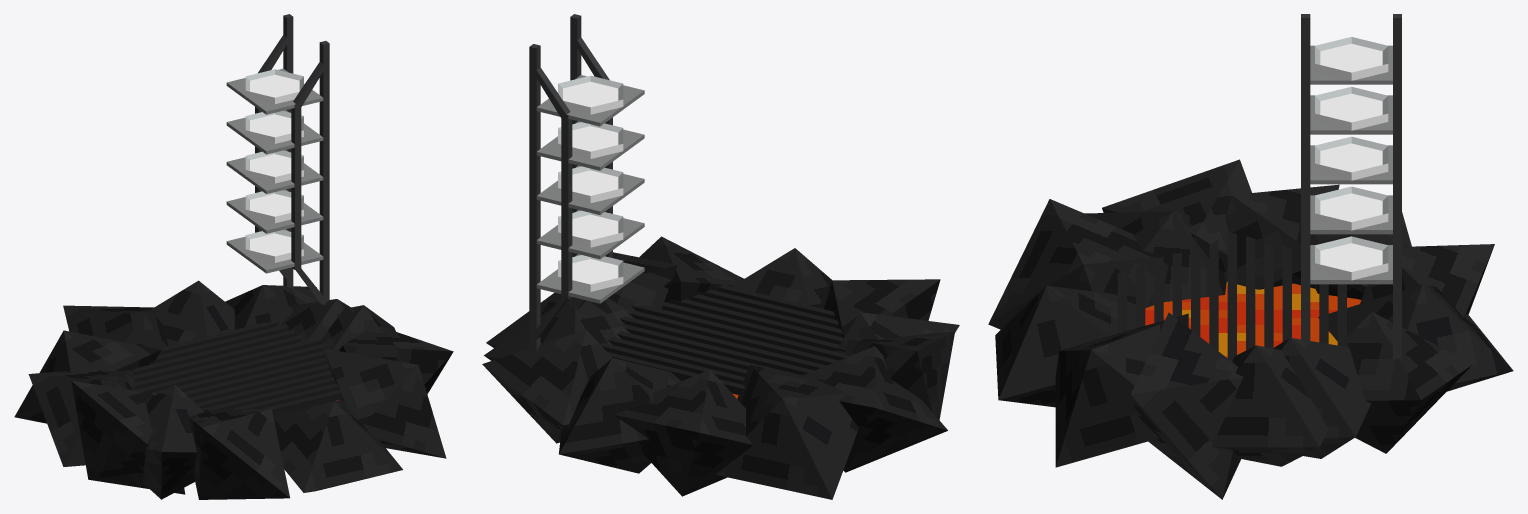
The model's file is Lava Pit Cooker.gltf.
3 renders of one model, left to right at view 1: azimuth 30°, elevation 25°; view 2: azimuth 150°, elevation 25°; view 3: azimuth 270°, elevation 25°, orthographic. The views are drawn at different scales.
Visible parts, largest first — view 1: Rock (×13), Grill Part (×13), Plate (×5), Rack Part (×4), Plate Holder (×5); view 2: Rock (×13), Grill Part (×13), Plate (×5), Rack Part (×5), Plate Holder (×5); view 3: Rock (×13), Plate (×5), Grill Part (×12), Rack Part (×2), Plate Holder (×5), Lava Part.
Boxes of the visible parts, x1,y1,x2,y2 form: Rock (×13): (14,280,453,499); Grill Part (×13): (132,322,342,415); Plate (×5): (245,69,303,262); Rack Part (×4): (283,14,329,304); Plate Holder (×5): (226,68,323,273); Rock (×13): (482,236,959,499); Grill Part (×13): (600,285,847,394); Plate (×5): (558,75,623,291); Rack Part (×5): (529,14,609,352); Plate Holder (×5): (536,75,644,303); Rock (×13): (988,159,1513,499); Plate (×5): (1315,37,1388,280); Grill Part (×12): (1117,232,1346,361); Rack Part (×2): (1301,14,1401,360); Plate Holder (×5): (1310,45,1392,284); Lava Part: (1145,282,1361,357).
Bounding box in the file's own units: 1.84 × 1.71 × 1.79.
Materials: 1 (1 with a texture image).
